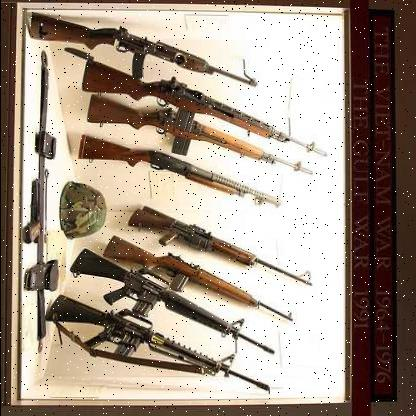rifle: (79, 52, 333, 164), (40, 294, 275, 399)
